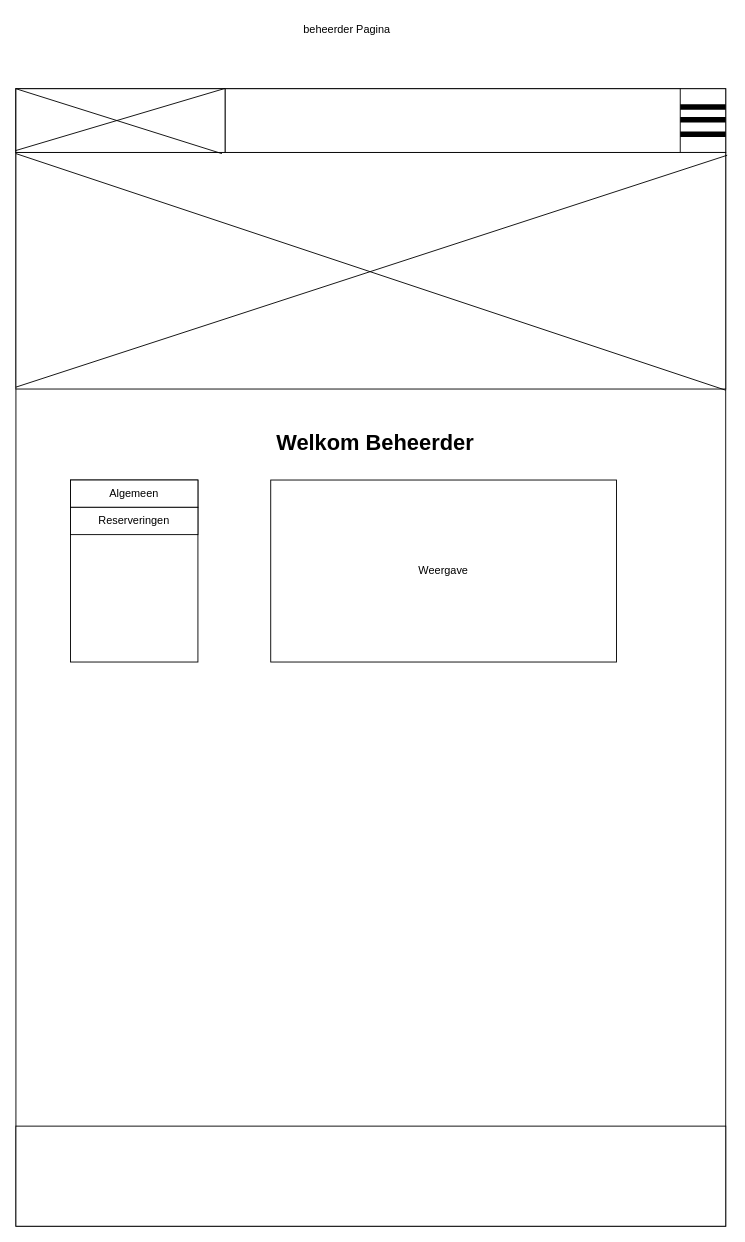
Image size: 745x1242. Some labels were removed from this diagram. The shapes that lost their labels are listed below. From the top down, each one's centre as x and y in pixels, then its label:
point 370,270: GamePlayParty Lorem ipsum dolor sit amet,
point 370,1175: Footer
